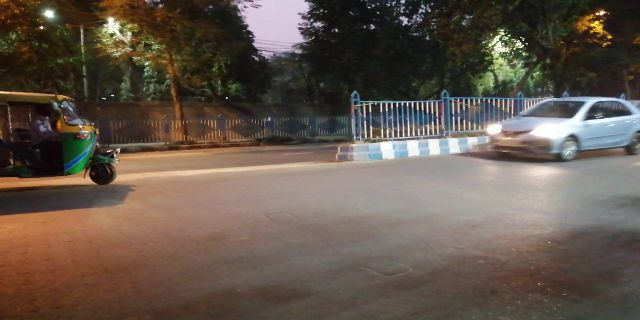Autorickshaw: (7, 92, 120, 188)
Car: (489, 95, 632, 164)
